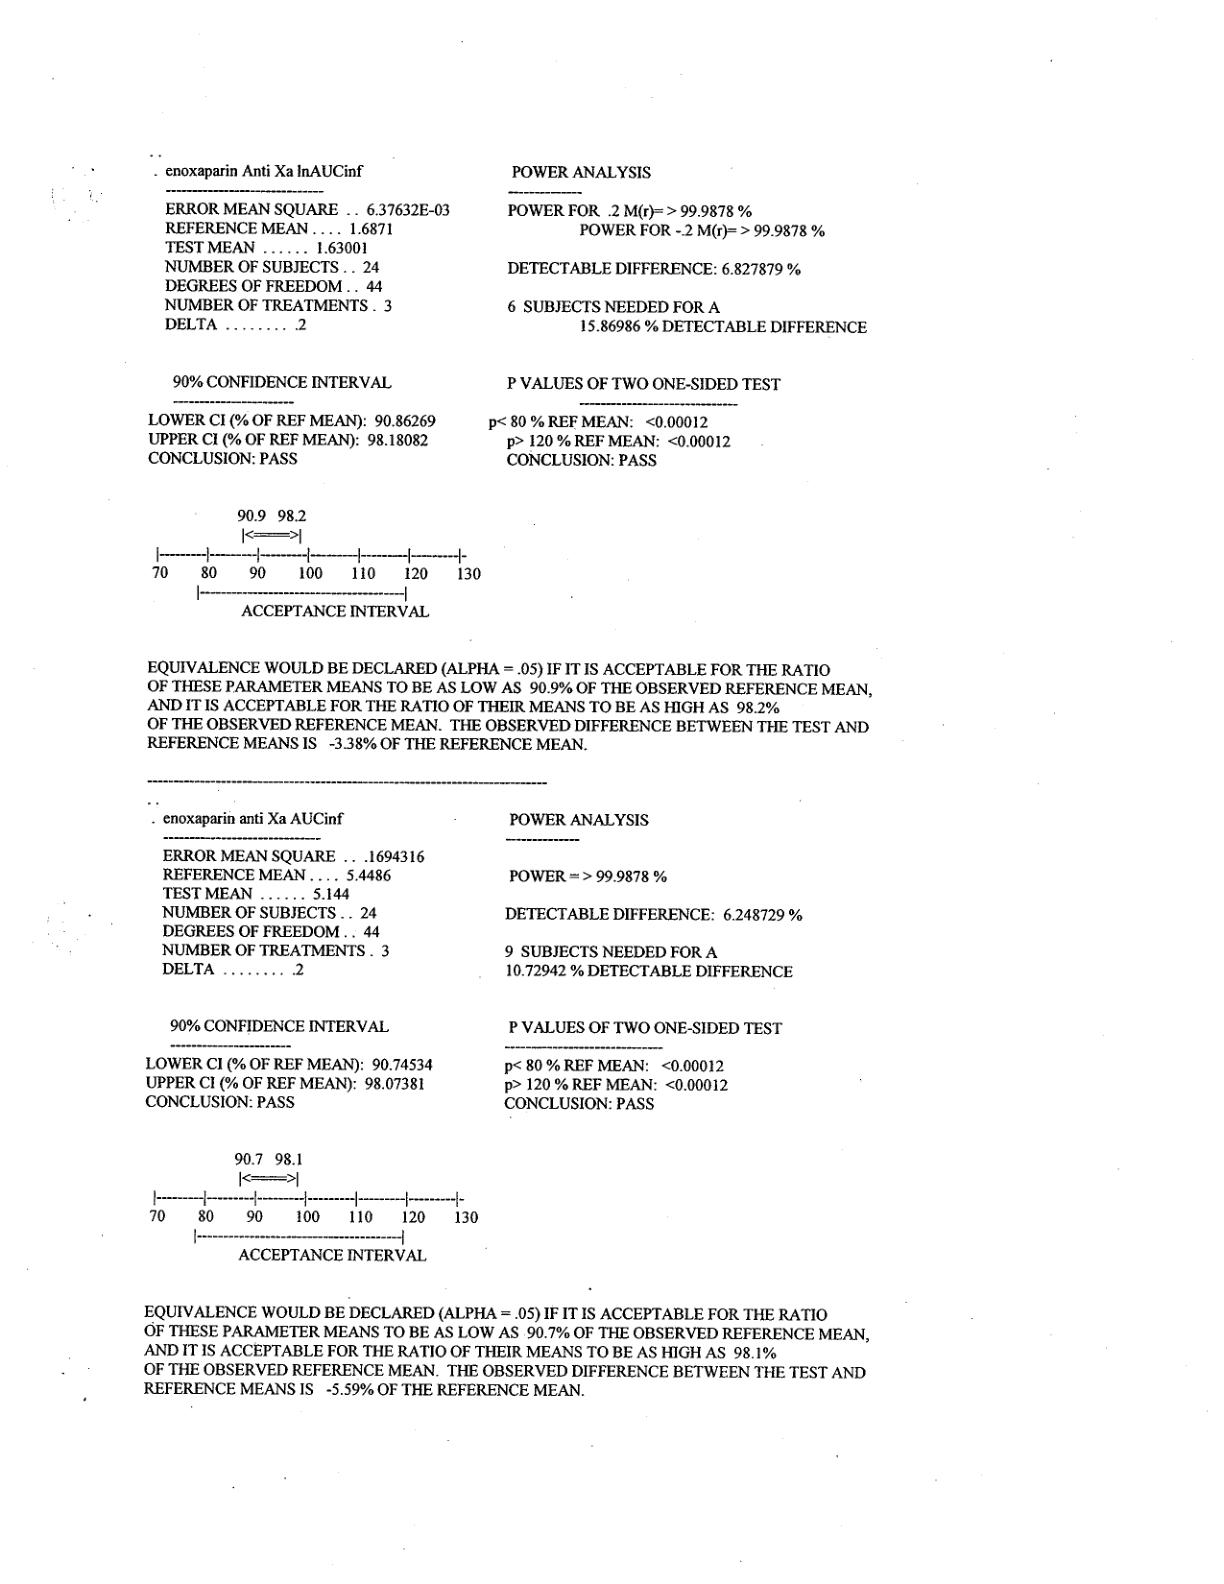nolines: (149, 159, 876, 472), (144, 806, 804, 1113)
